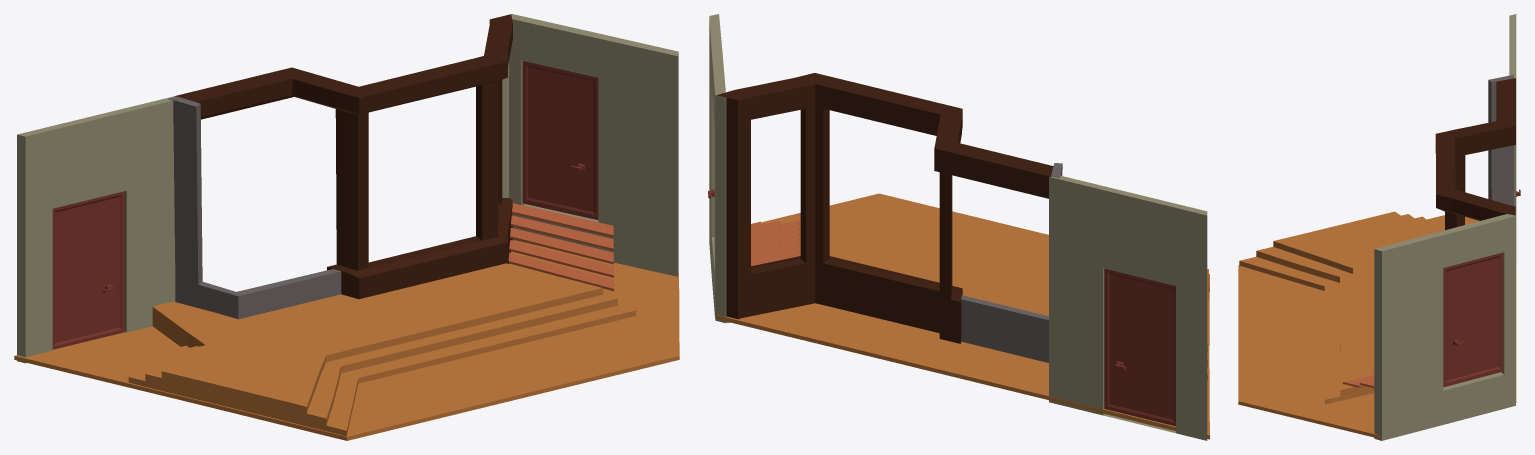
File: MDL_Entrance_01.fbx
3 views of the same model, side by side, from view 1: azimuth 30°, elevation 25°; view 2: azimuth 150°, elevation 25°; view 3: azimuth 270°, elevation 25° (orthographic). The views are drawn at different scales.
Visible parts, largest first — view 1: MDL_Entrance_Wall, MDL_Entrance_Stairs_02, MDL_Entrance_Floor_01, MDL_Window_Frame_01, MDL_Entrance_Door_02, MDL_Entrance_Door_01, MDL_Entrance_Stonepot_01.003, MDL_Entrance_Stairs, MDL_Entrance_Stonepot_01.001; view 2: MDL_Window_Frame_01, MDL_Entrance_Wall, MDL_Entrance_Floor_01, MDL_Entrance_Door_01, MDL_Entrance_Stairs_02, MDL_Entrance_Stonepot_01.001, MDL_Entrance_Stairs; view 3: MDL_Entrance_Wall, MDL_Entrance_Floor_01, MDL_Entrance_Stairs_02, MDL_Entrance_Door_02, MDL_Window_Frame_01, MDL_Entrance_Stonepot_01.003.
Part boxes in pixels (x1,y1,x2,y2): MDL_Entrance_Wall: (17,14,678,363); MDL_Entrance_Stairs_02: (128,263,636,436); MDL_Entrance_Floor_01: (14,240,679,440); MDL_Window_Frame_01: (175,14,512,299); MDL_Entrance_Door_02: (522,61,598,219); MDL_Entrance_Door_01: (52,191,124,349); MDL_Entrance_Stonepot_01.003: (168,96,238,318); MDL_Entrance_Stairs: (508,203,613,291); MDL_Entrance_Stonepot_01.001: (236,269,341,319); MDL_Window_Frame_01: (717,73,1053,343); MDL_Entrance_Wall: (709,14,1207,440); MDL_Entrance_Floor_01: (716,193,1209,439); MDL_Entrance_Door_01: (1104,268,1175,426); MDL_Entrance_Stairs_02: (829,226,1208,380); MDL_Entrance_Stonepot_01.001: (961,295,1048,362); MDL_Entrance_Stairs: (751,219,800,266); MDL_Entrance_Wall: (1374,14,1516,440); MDL_Entrance_Floor_01: (1238,215,1516,438); MDL_Entrance_Stairs_02: (1239,211,1441,404); MDL_Entrance_Door_02: (1443,252,1502,387); MDL_Window_Frame_01: (1435,78,1515,230); MDL_Entrance_Stonepot_01.003: (1488,74,1513,205).
Bounding box in the file's own units: 913 × 340 × 457.
